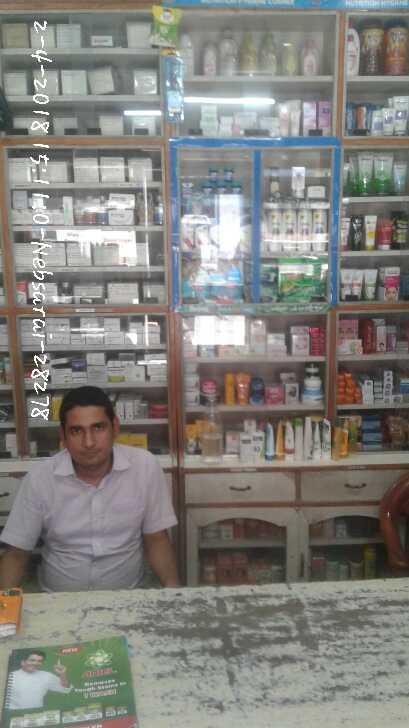vicks: (180, 165, 250, 217)
